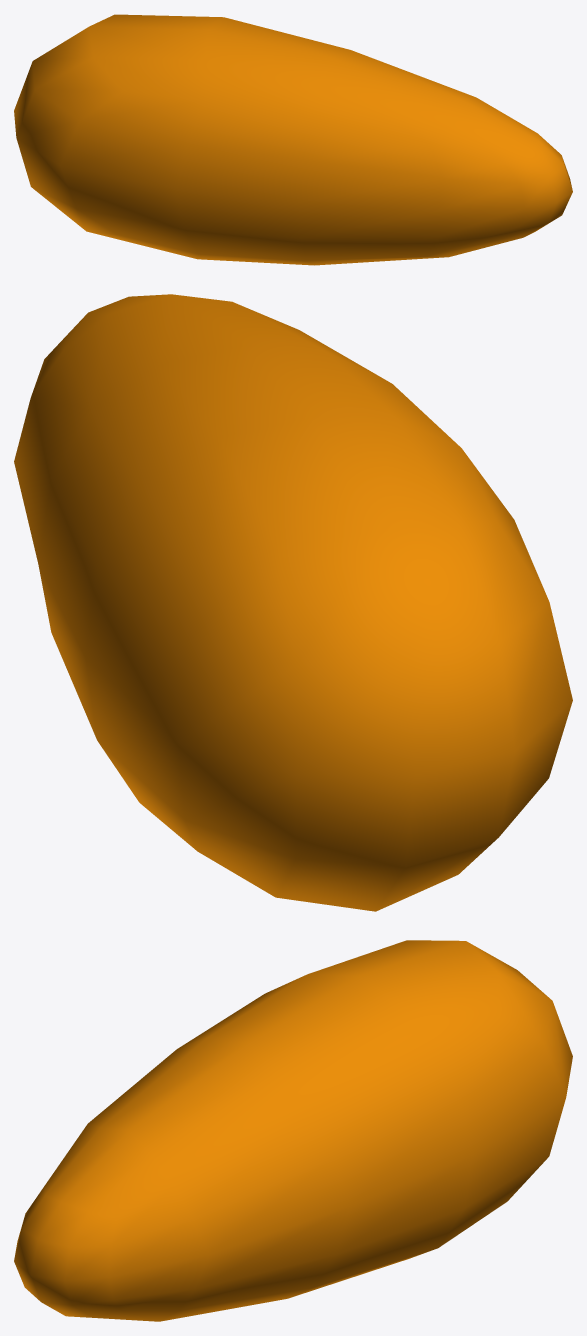
Rendered from carrot.fbx.
3 views of the same model, one above another, from view 1: azimuth 30°, elevation 25°; view 2: azimuth 150°, elevation 25°; view 3: azimuth 270°, elevation 25° (orthographic). The views are drawn at different scales.
Visible parts, largest first — view 1: Carrot; view 2: Carrot; view 3: Carrot.
Boxes of the visible parts, x1,y1,x2,y2 form: Carrot: [14, 14, 572, 265]; Carrot: [14, 294, 572, 911]; Carrot: [14, 940, 572, 1321].
Size of the model in its own units: 0.0249 by 0.0132 by 0.0244.
